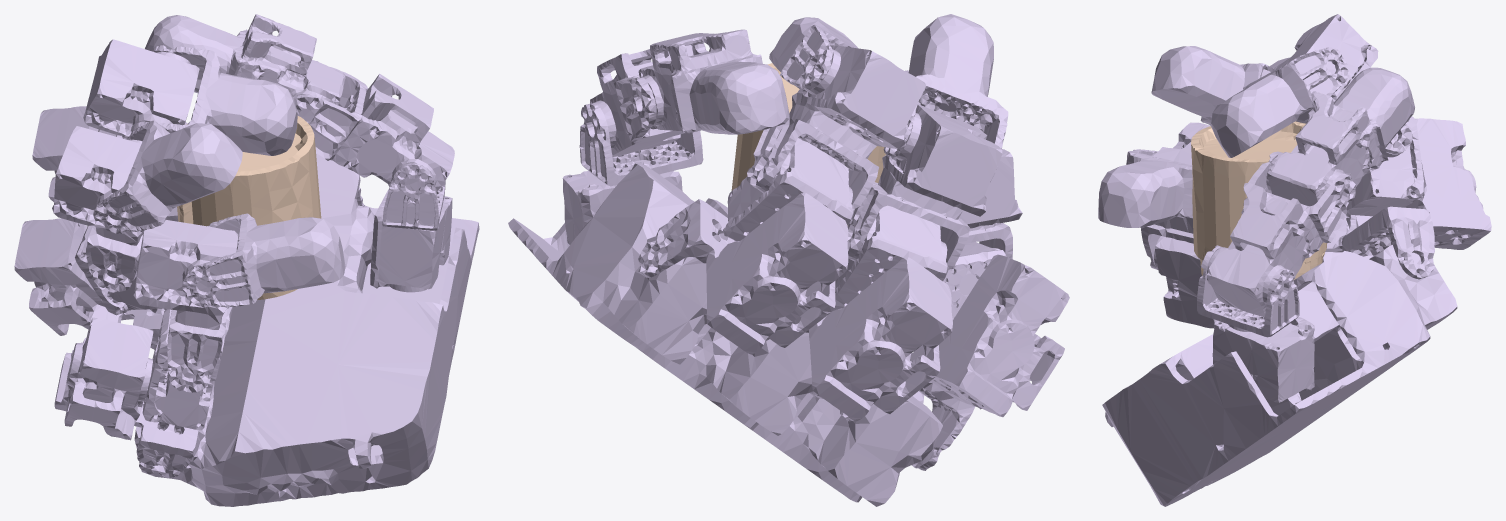
File: 24cefc1a4b1016-final.glb
3 views of the same model, side by side, from view 1: azimuth 30°, elevation 25°; view 2: azimuth 150°, elevation 25°; view 3: azimuth 270°, elevation 25° (orthographic). The views are drawn at different scales.
Visible parts, largest first — view 1: LEAP_hand, world; view 2: LEAP_hand, world; view 3: LEAP_hand, world.
Boxes of the visible parts, left/top/right/bottom form: LEAP_hand: left=14, top=14, right=479, bottom=506; world: left=177, top=116, right=321, bottom=299; LEAP_hand: left=508, top=14, right=1069, bottom=506; world: left=731, top=63, right=886, bottom=225; LEAP_hand: left=1098, top=14, right=1491, bottom=506; world: left=1191, top=121, right=1327, bottom=279.
Bounding box in the file's own units: 0.1891 × 0.1794 × 0.1522.
